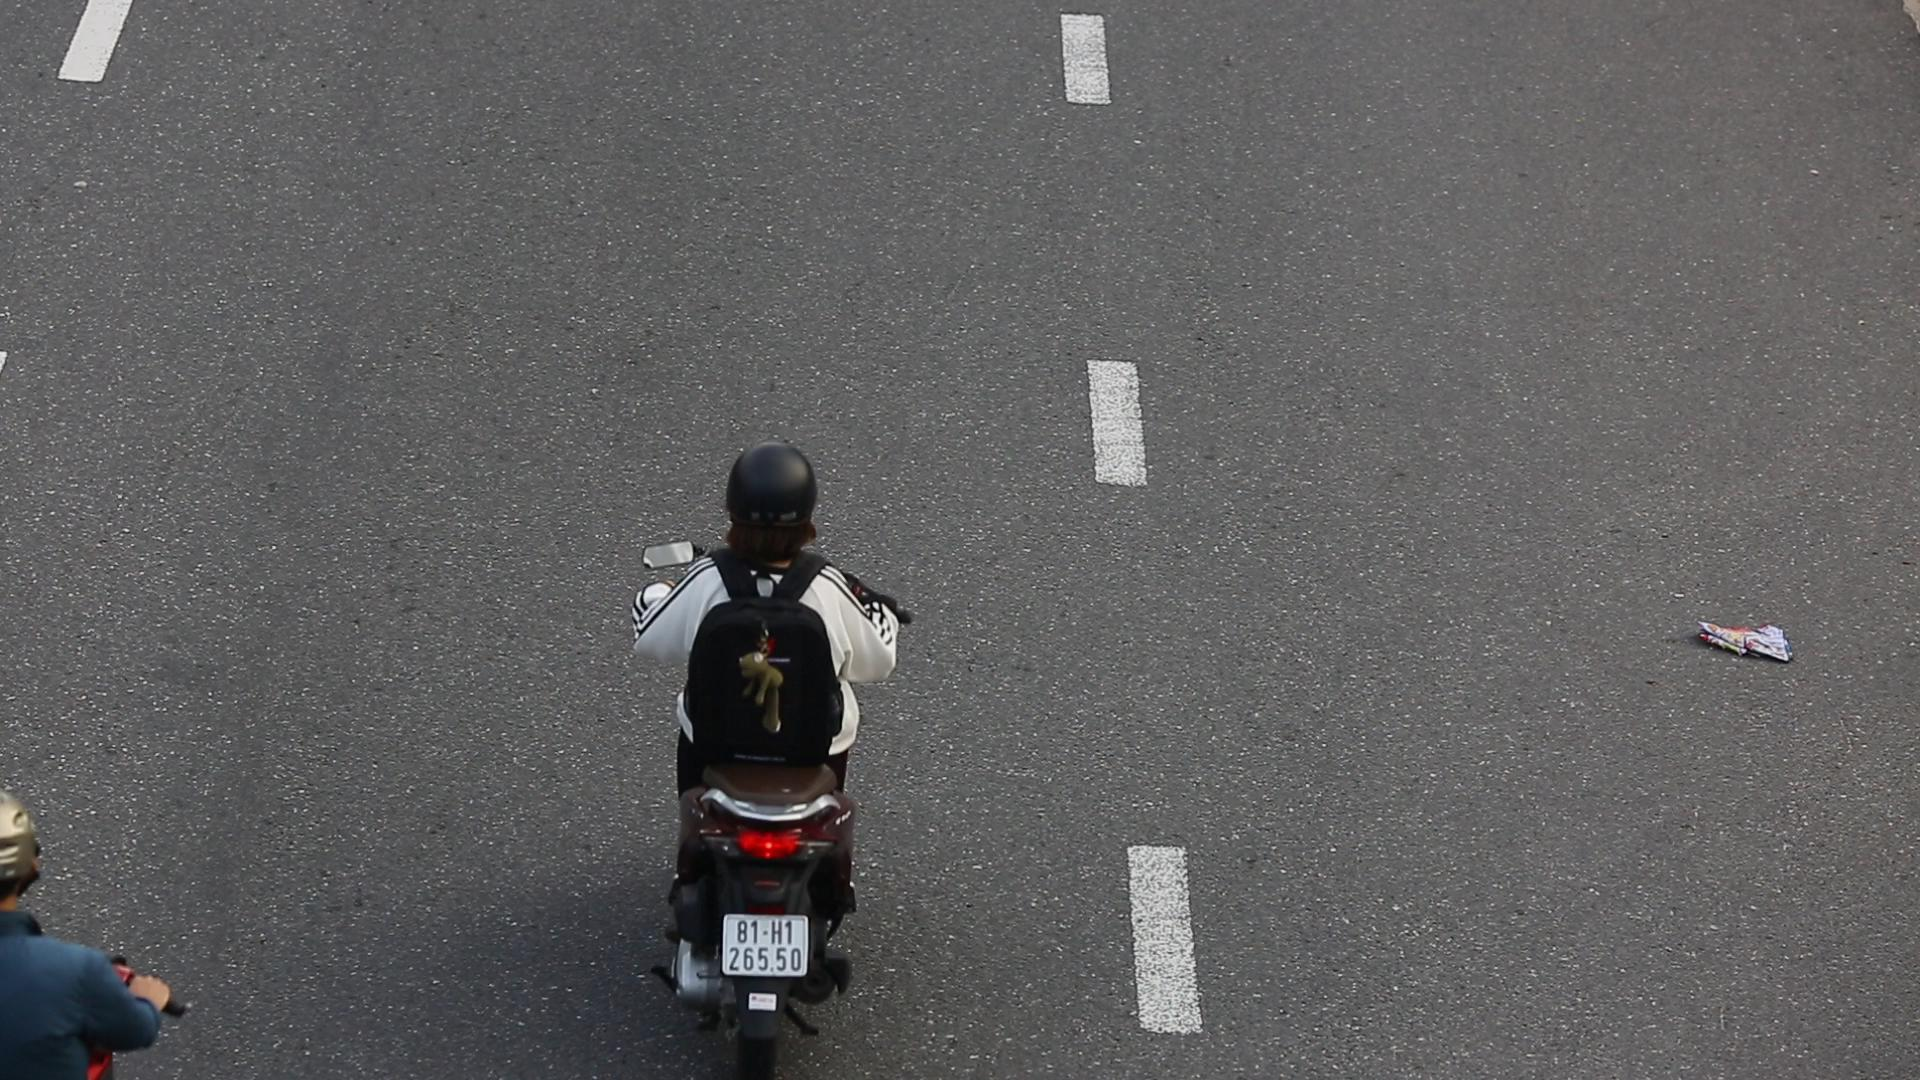motobike: (615, 389, 916, 1080)
